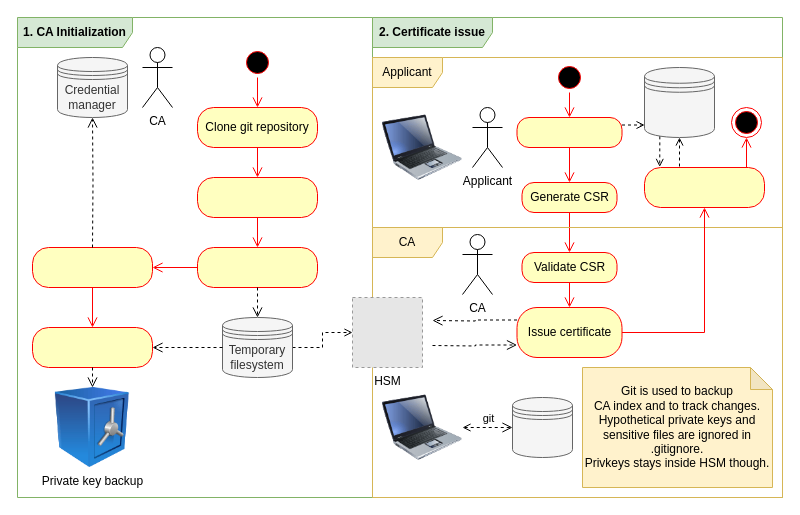
This 800x515 diagram has some shape labels left out. Grey dashed boxes stand in for pictures. Each missing label, with the centre of its shape:
"Create archive & encrypt" goes at (92,347).
"Create PKCS#12 bundle" goes at (704,187).
"Customize OpenSSL template" goes at (257,197).
"Filesystem" goes at (679,102).
"Generate CA keypairs" goes at (257,267).
"Generate encrypt keypair" goes at (92,267).
"Generate keypair" goes at (569,132).
"Git repo" goes at (542,427).
